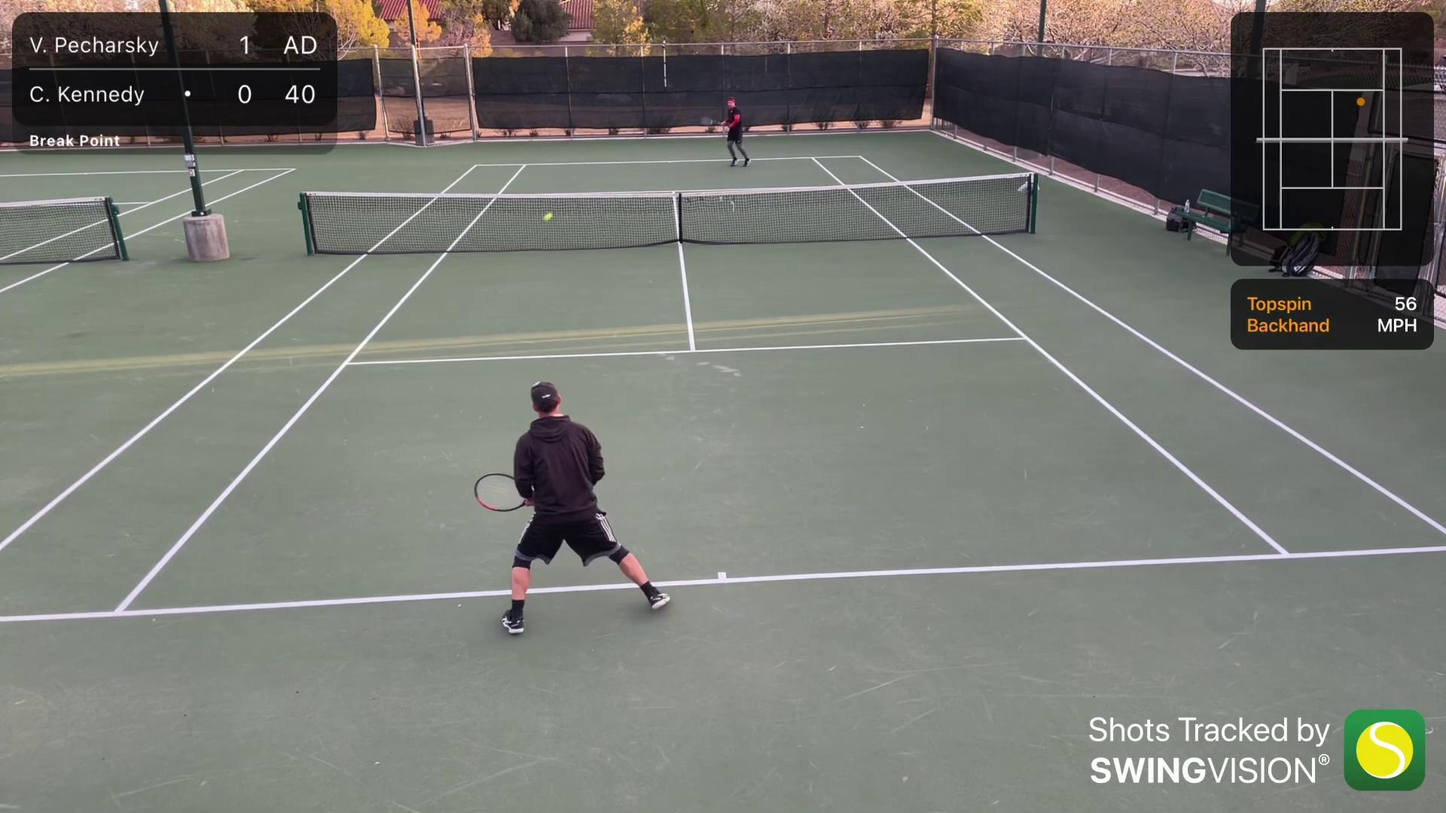ball: (542, 210, 555, 223)
